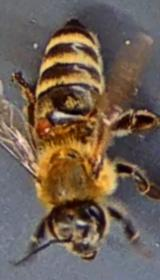varroa_mite: (26, 114, 60, 138)
